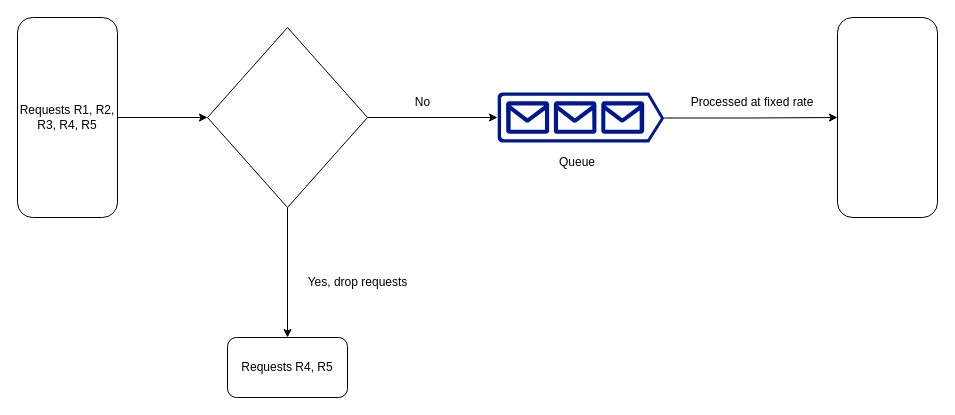
The diagram is 955 pixels wide and 415 high, and some of its shapes have lost their labels. The centre of each missing label's shape, as x and y in pixels:
"Is Bucket Full?" belongs at pixel 287 117.
"Requests go through R1, R2, R3" belongs at pixel 887 117.
